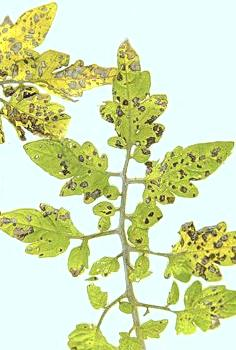Tomato Septoria leaf spot: (0, 0, 131, 111), (100, 23, 174, 167), (19, 116, 119, 212), (0, 183, 101, 278), (138, 139, 236, 210), (160, 218, 236, 284), (0, 74, 75, 138), (170, 278, 236, 343), (60, 309, 125, 350)
